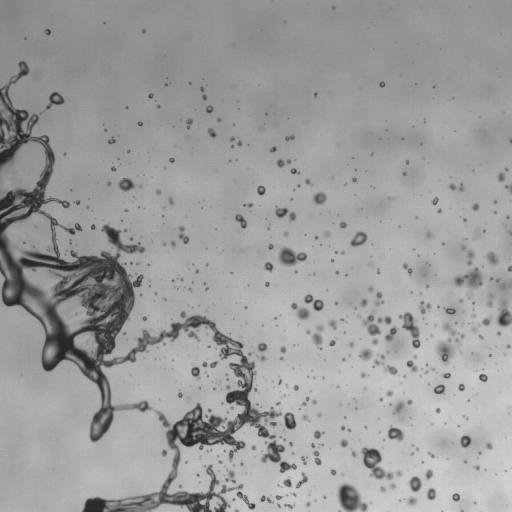droplet: (435, 322, 464, 365), (361, 311, 391, 345), (454, 267, 483, 298), (337, 483, 368, 511), (278, 246, 307, 266), (46, 92, 64, 109), (387, 426, 404, 441), (350, 232, 367, 246), (118, 178, 135, 191), (283, 412, 296, 429), (408, 476, 421, 492), (485, 252, 498, 265), (312, 192, 326, 204), (419, 301, 431, 314), (359, 348, 372, 360), (373, 354, 385, 367), (225, 469, 235, 483), (406, 360, 417, 372), (393, 401, 404, 413), (460, 435, 471, 447), (374, 292, 383, 306), (426, 488, 436, 500), (384, 365, 397, 374), (191, 366, 200, 379), (276, 159, 290, 167), (433, 384, 444, 393), (257, 342, 267, 351), (406, 496, 416, 505), (264, 262, 273, 271), (257, 185, 265, 195), (328, 319, 336, 329), (313, 430, 323, 438), (425, 469, 433, 479), (283, 477, 291, 487), (497, 172, 505, 181), (478, 373, 487, 381), (340, 439, 348, 447), (452, 493, 460, 501), (208, 128, 215, 137), (186, 118, 192, 128), (445, 308, 455, 314), (206, 105, 213, 113), (360, 299, 367, 307), (505, 184, 511, 193), (441, 372, 450, 378), (472, 203, 479, 210), (291, 168, 299, 174), (285, 135, 294, 140), (108, 137, 115, 143), (449, 184, 456, 190), (458, 184, 464, 191), (432, 197, 438, 204), (339, 222, 346, 228), (425, 232, 432, 238), (280, 346, 286, 353), (258, 355, 265, 361), (458, 384, 464, 391), (386, 390, 393, 396), (161, 449, 167, 456), (428, 452, 435, 458), (168, 197, 173, 205), (301, 456, 306, 464), (270, 146, 276, 152), (324, 231, 330, 237), (329, 340, 335, 346), (348, 341, 354, 347), (302, 414, 308, 420), (486, 443, 492, 449), (245, 203, 252, 208), (305, 179, 311, 184), (330, 469, 335, 475), (389, 483, 395, 488), (380, 486, 385, 492), (45, 29, 50, 34), (379, 81, 384, 86), (148, 93, 153, 98), (237, 141, 242, 146), (268, 244, 273, 249), (368, 286, 373, 291), (361, 372, 366, 377), (293, 385, 298, 390), (474, 465, 479, 470), (276, 495, 281, 500), (507, 265, 511, 271), (202, 94, 206, 99), (169, 158, 174, 162), (111, 167, 116, 171), (156, 189, 160, 194), (171, 241, 175, 246), (178, 392, 182, 397), (407, 400, 412, 404), (435, 408, 440, 412), (251, 445, 255, 450), (352, 452, 356, 457), (200, 87, 204, 91), (138, 121, 142, 125), (230, 137, 234, 141), (352, 177, 356, 181), (75, 200, 79, 204), (437, 209, 441, 213), (91, 225, 95, 229), (461, 245, 465, 249), (265, 282, 269, 286), (142, 316, 146, 320), (479, 335, 483, 339), (506, 344, 510, 348), (276, 401, 280, 405), (312, 400, 316, 404), (311, 443, 315, 447), (306, 502, 310, 506), (278, 379, 281, 384), (406, 160, 409, 164), (459, 299, 463, 302), (472, 314, 476, 317), (341, 318, 345, 321), (306, 330, 309, 334), (341, 358, 345, 361), (317, 413, 321, 416), (341, 426, 345, 429), (292, 493, 296, 496), (314, 93, 317, 96), (217, 118, 220, 121), (231, 145, 234, 148), (107, 182, 110, 185), (284, 232, 287, 235), (341, 251, 344, 254), (335, 271, 338, 274), (75, 312, 78, 315), (289, 442, 292, 445), (207, 449, 210, 452), (240, 462, 243, 465), (509, 231, 511, 235), (377, 270, 379, 274), (179, 278, 183, 280), (142, 30, 145, 32), (403, 172, 405, 175), (389, 197, 392, 199), (494, 200, 496, 203), (463, 219, 466, 221), (130, 237, 132, 240), (315, 236, 317, 239), (195, 270, 198, 272), (206, 287, 208, 290), (189, 288, 191, 291), (335, 301, 337, 304), (358, 315, 360, 318), (497, 332, 500, 334), (414, 355, 416, 358), (431, 368, 434, 370), (403, 375, 406, 377), (364, 426, 367, 428), (219, 460, 221, 463), (157, 105, 159, 107), (40, 112, 42, 114), (127, 150, 129, 152), (139, 185, 141, 187), (125, 209, 127, 211), (163, 243, 165, 245), (335, 251, 337, 253), (295, 271, 297, 273), (490, 278, 492, 280), (496, 279, 498, 281), (489, 354, 491, 356), (426, 364, 428, 366), (425, 371, 427, 373), (380, 398, 382, 400), (464, 416, 466, 418), (348, 429, 350, 431), (319, 444, 321, 446), (323, 496, 325, 498), (278, 505, 280, 507)
ligament: (0, 61, 295, 511), (362, 448, 402, 479), (398, 312, 420, 348), (496, 300, 511, 327), (471, 315, 492, 331), (304, 294, 323, 311), (291, 303, 310, 320), (275, 207, 295, 221), (311, 325, 323, 348), (385, 326, 397, 341), (179, 226, 189, 243), (296, 472, 307, 487), (235, 214, 246, 228), (466, 250, 474, 265), (313, 451, 321, 465), (403, 263, 412, 274), (202, 361, 217, 367), (260, 496, 272, 503), (487, 294, 493, 307), (302, 397, 309, 405), (285, 504, 294, 508), (509, 138, 511, 143), (234, 509, 239, 511), (510, 281, 511, 286), (460, 510, 463, 511)
